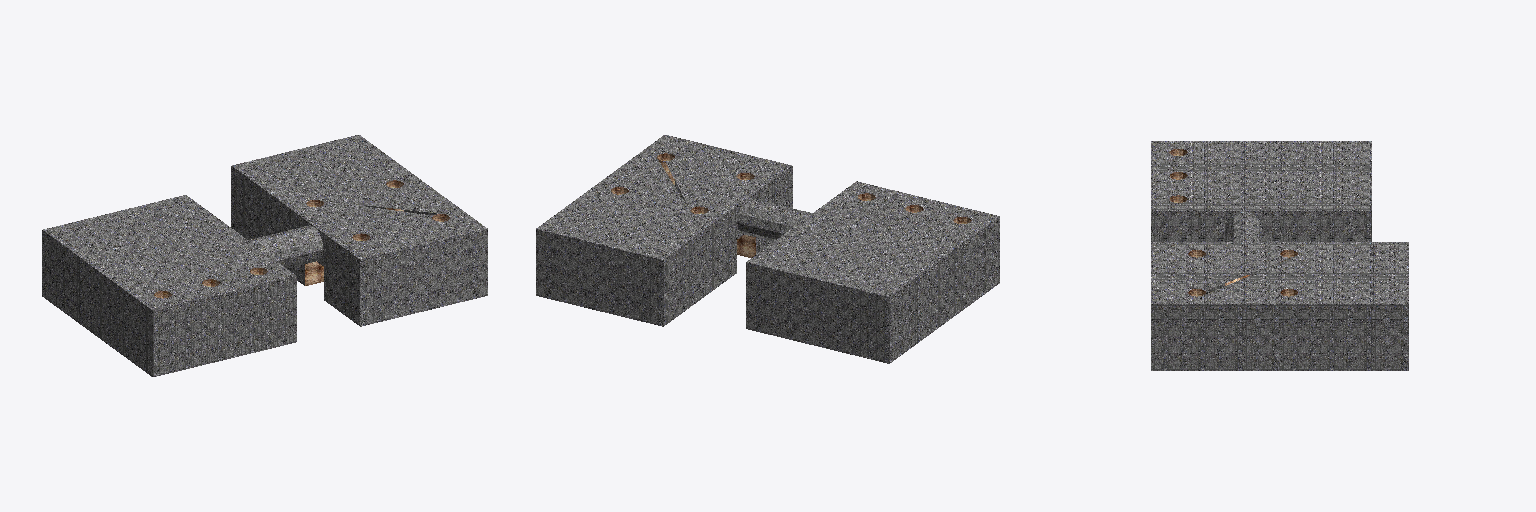
3 renders of one model, left to right at view 1: azimuth 30°, elevation 25°; view 2: azimuth 150°, elevation 25°; view 3: azimuth 270°, elevation 25°, orthographic.
Parts seen in each view (by area): view 1: $dummy_node; view 2: $dummy_node; view 3: $dummy_node.
Part boxes in pixels (x1,y1,x2,y2): $dummy_node: (42, 135, 487, 376); $dummy_node: (536, 135, 999, 363); $dummy_node: (1151, 141, 1408, 370).
Bounding box in the file's own units: 21 × 4 × 14.
Materials: 2 (2 with a texture image).